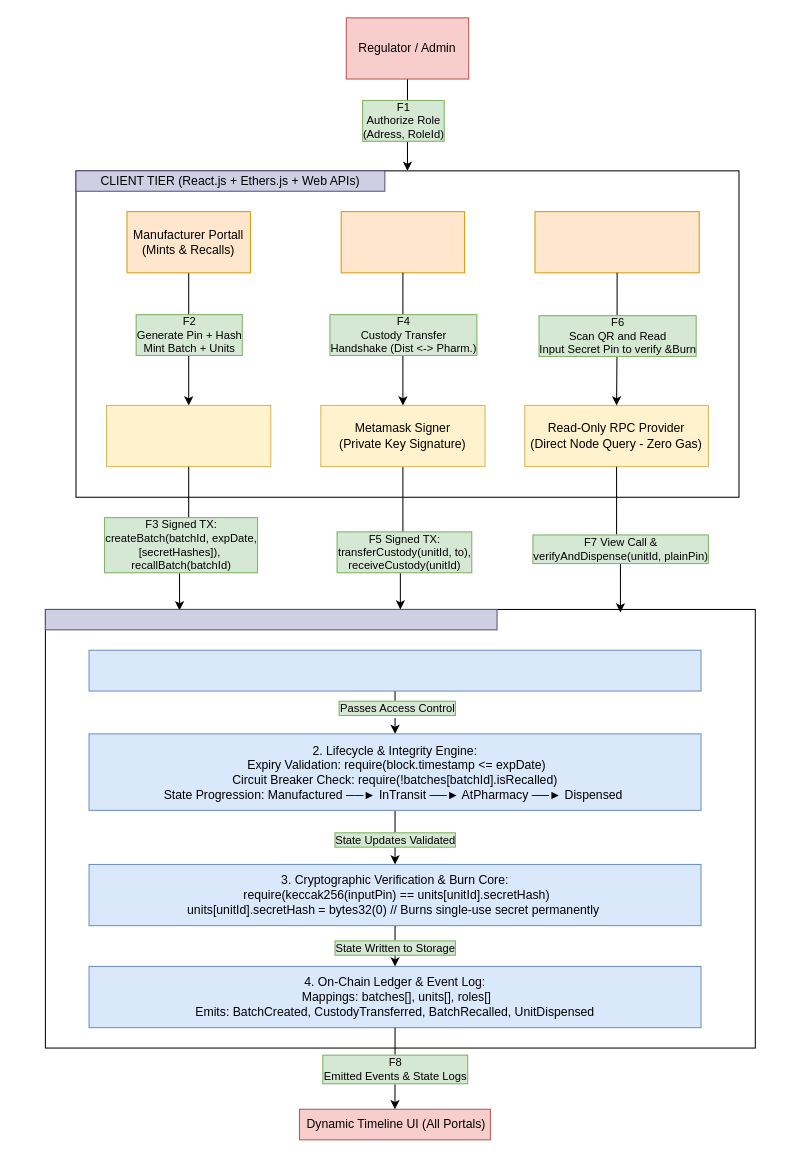
This 806x1158 diagram has some shape labels left out. Each missing label, with the centre of its shape:
1. RBAC Guard: Modifier checks msg.sender against authorized role mappings: [394,670]
Local Keccak-256 Hasher & QR Generator: [188,435]
Public Verification Portal (End Consumer - No Wallet): [616,242]
SMART CONTRACT & LEDGER TIER (TrustPharma.sol on Hardhat/EVM): [270,619]
Supply Chain Portal (Distributor/Pharmacy: [402,242]
